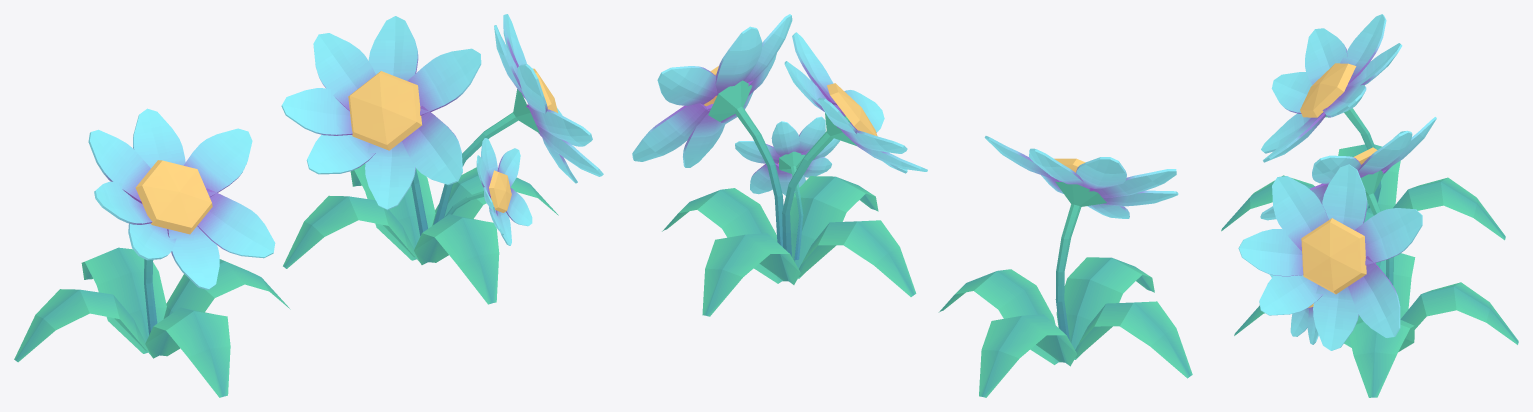
The model's file is flower2.glb.
The picture shows the model from 3 angles, left to right: view 1: azimuth 30°, elevation 25°; view 2: azimuth 150°, elevation 25°; view 3: azimuth 270°, elevation 25°; orthographic projection. The views are drawn at different scales.
Parts seen in each view (by area): view 1: flower, flower.003; view 2: flower, flower.003; view 3: flower, flower.003.
Boxes of the visible parts, left/top/right/bottom form: flower: left=281, top=14, right=603, bottom=304; flower.003: left=14, top=108, right=290, bottom=397; flower: left=632, top=14, right=927, bottom=316; flower.003: left=938, top=136, right=1192, bottom=397; flower: left=1234, top=117, right=1518, bottom=397; flower.003: left=1221, top=14, right=1505, bottom=240.
Bounding box in the file's own units: 0.9003 × 0.3962 × 0.4489.
1 material, 1 textured.
